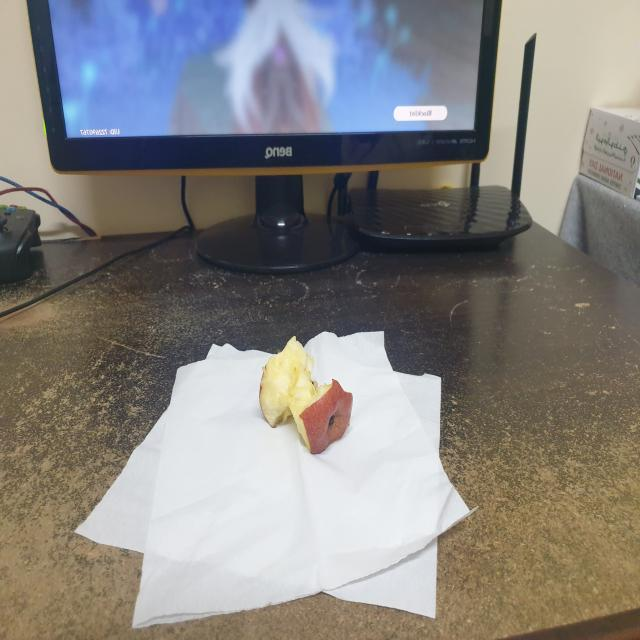apple: (252, 328, 359, 463)
